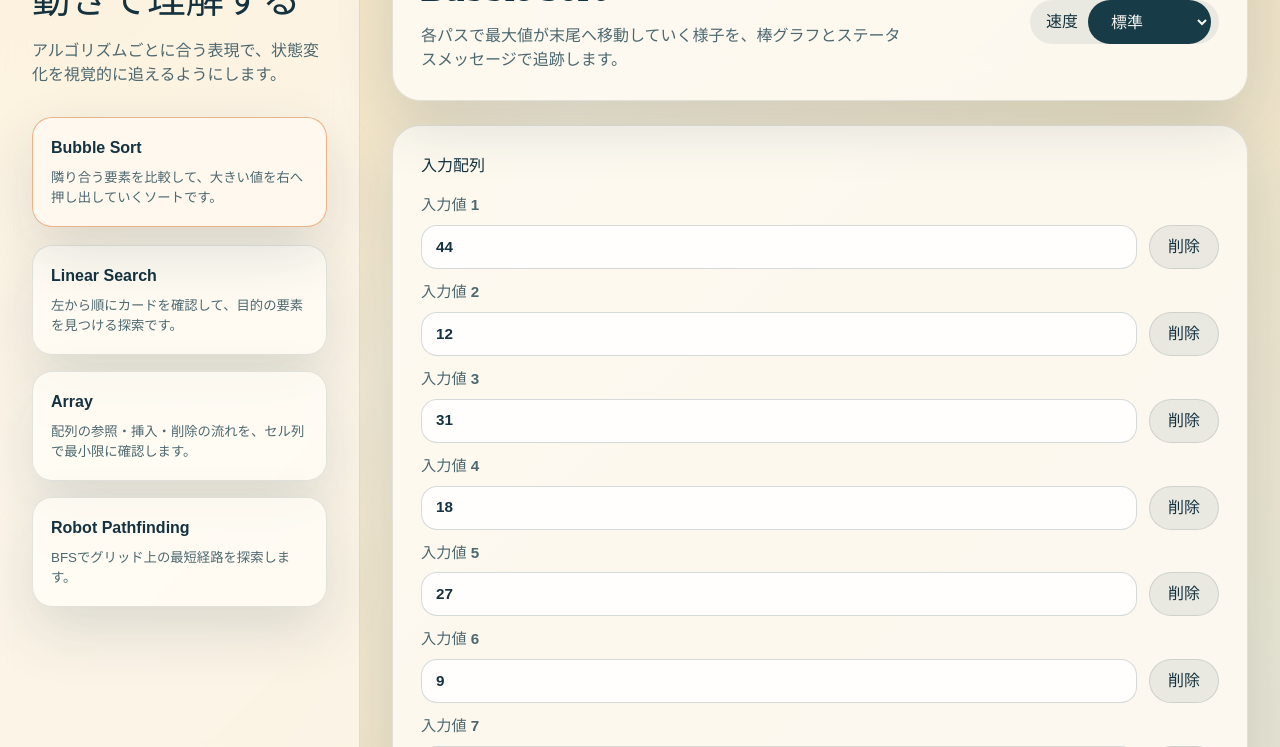
Test: App › switches to linear search cards and shows the target
Click the button "Linear Search 左から順にカードを確認して、目的の要素を見つける探索です。" at (180, 300), box [32,245,327,355]
(page scrolled)
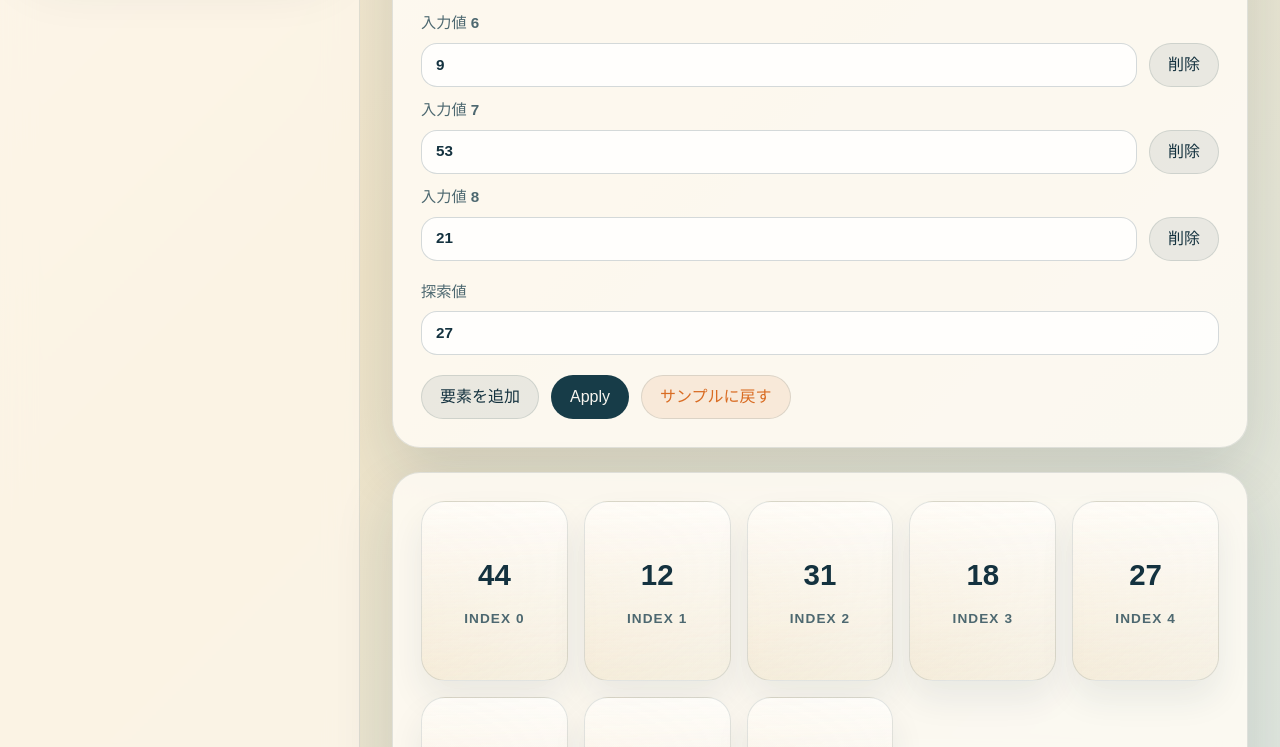
Check: the number field labelled "探索値" is shown, box [421,312,1219,356]
Check: the number of elements with class "search-card" is 8
